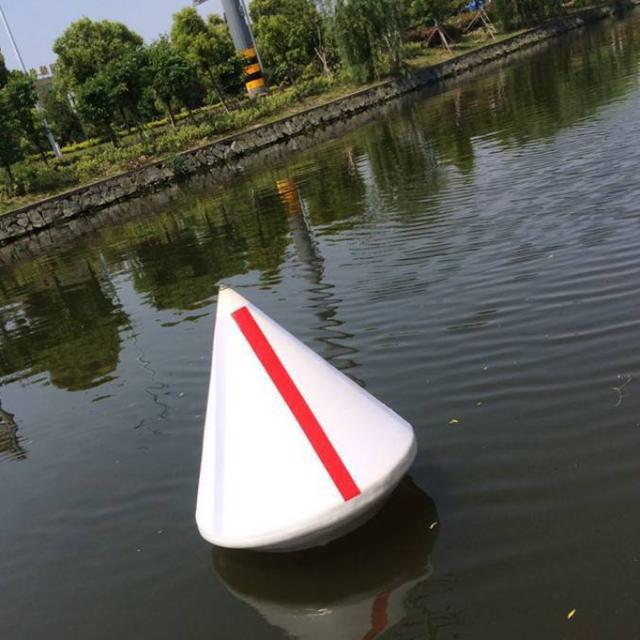buoy: (187, 278, 416, 559)
